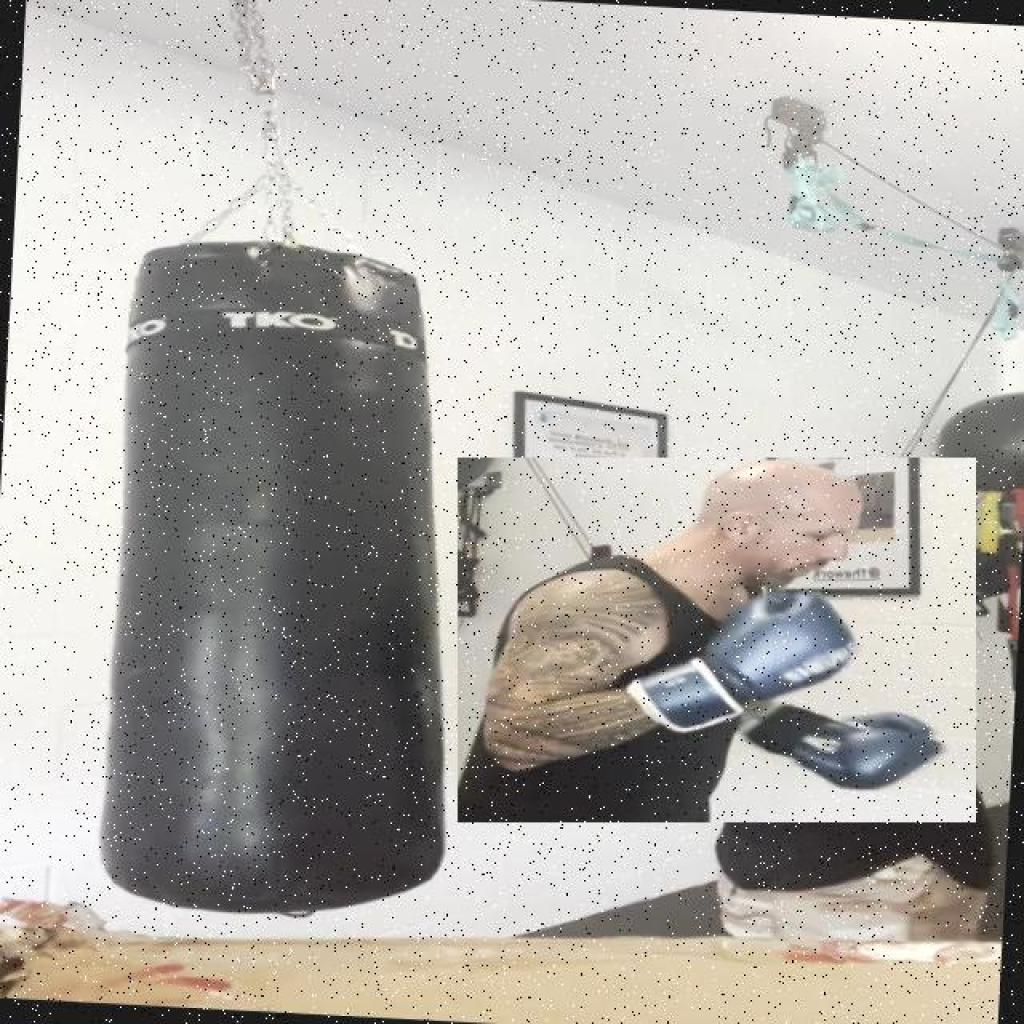bag: (86, 234, 485, 920)
uppercut: (458, 458, 975, 822)
